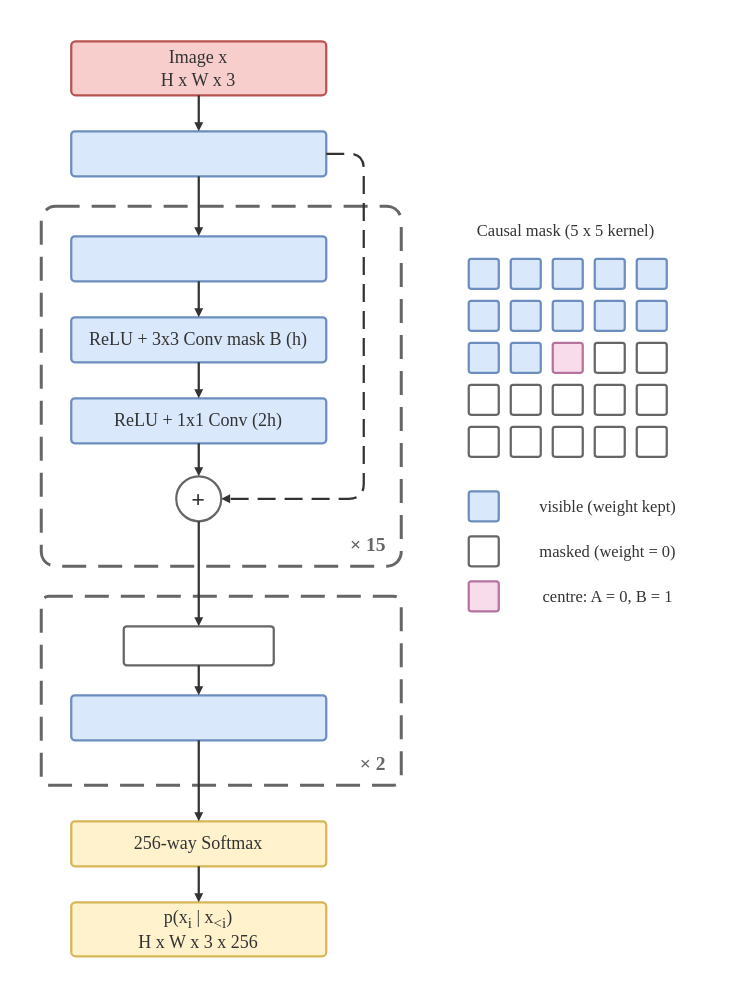
Image size: 746x996. Some labels were removed from this diagram. The shapes that lost their labels are listed below. From the top down, each one's box as (x1, y1, x2, y2) in pixels, then its label:
(69, 129, 327, 177): 7x7 Conv, mask A
(69, 234, 327, 282): ReLU + 1x1 Conv (h)
(122, 624, 274, 666): ReLU
(69, 693, 327, 741): 1x1 Conv, mask B
